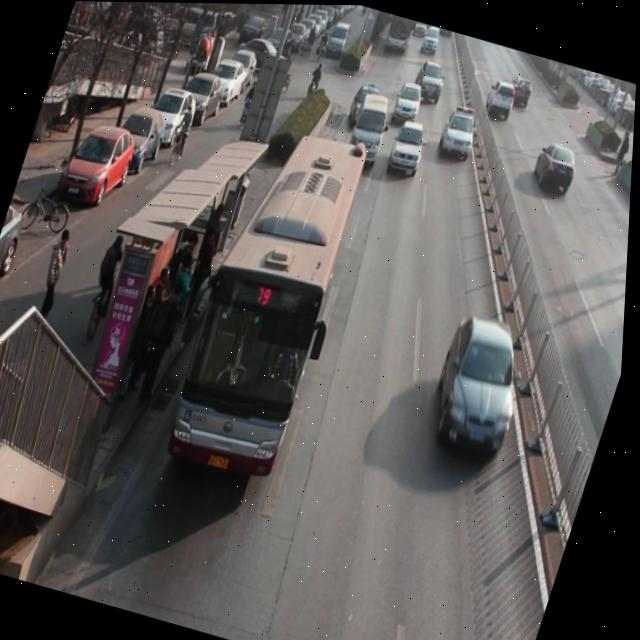car: (424, 311, 545, 462), (432, 102, 484, 168), (384, 117, 434, 182), (530, 141, 583, 195), (344, 79, 384, 131), (412, 58, 450, 103), (392, 81, 427, 122), (506, 69, 539, 112), (484, 78, 517, 119), (418, 23, 443, 57)
truck: (344, 94, 395, 175)
van: (160, 117, 376, 481), (380, 12, 415, 56)
